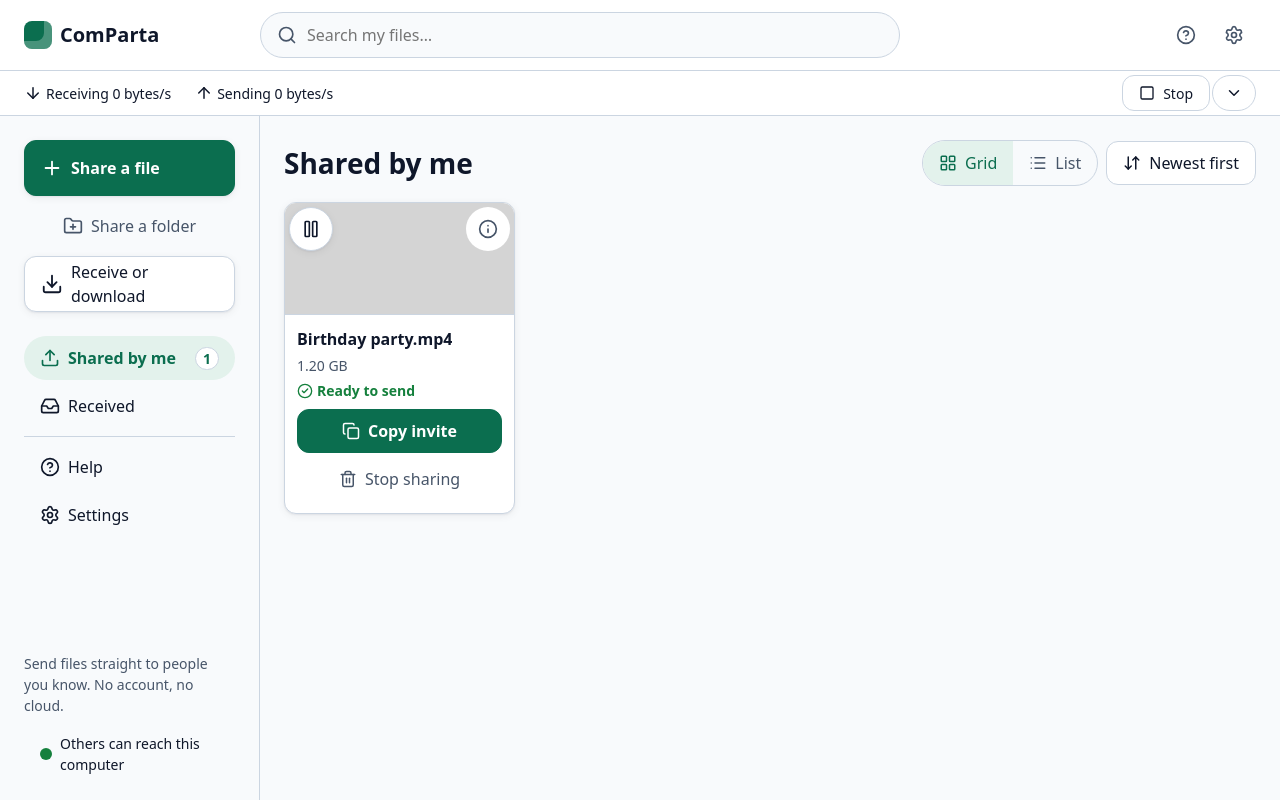
Test: the details of a file › shows a shared file’s size, state, folder and what it has sent
The image size is (1280, 800).
Step 1. Click the button named "Details of Birthday party.mp4" → [488, 229], box [466,207,510,251]
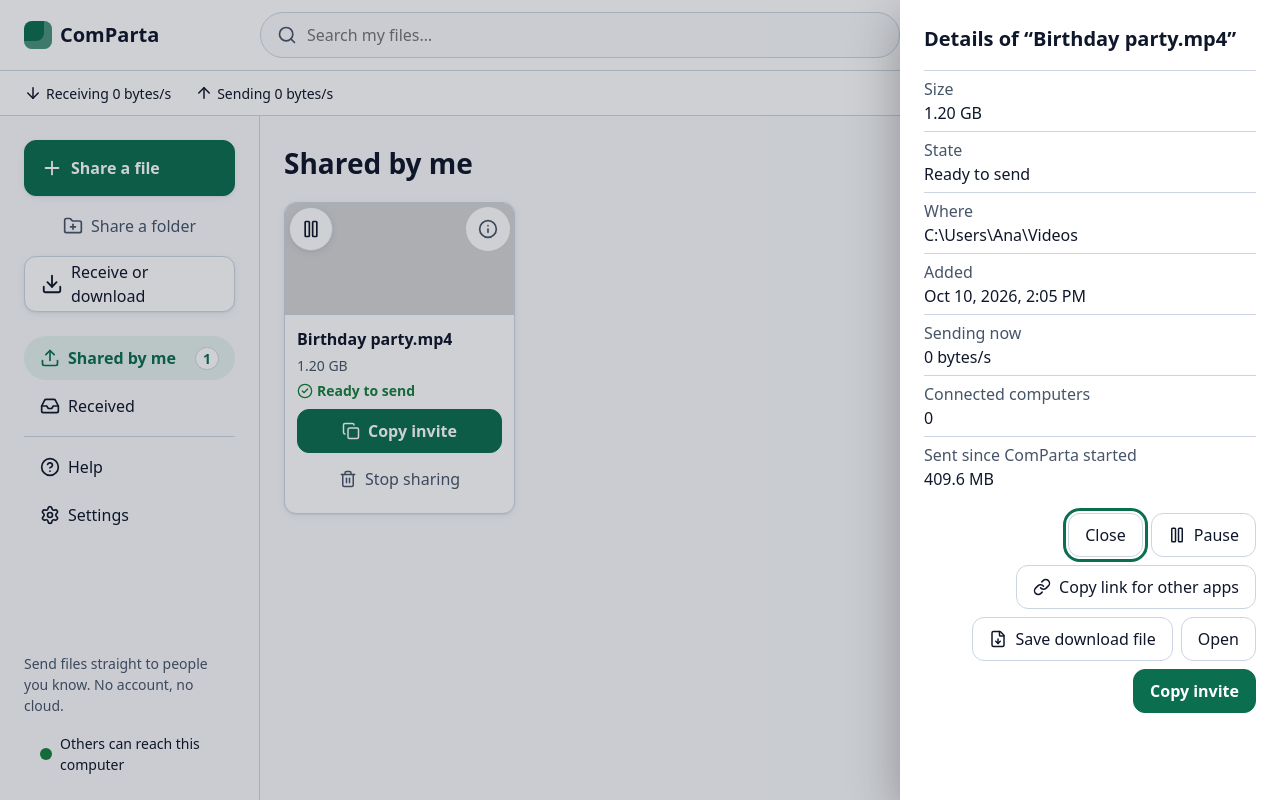
Expected: the 2nd text "1.20 GB" is shown, [297,355,348,376]
Expected: the text "C:\\Users\\Ana\\Videos" is shown, [924,224,1078,246]
